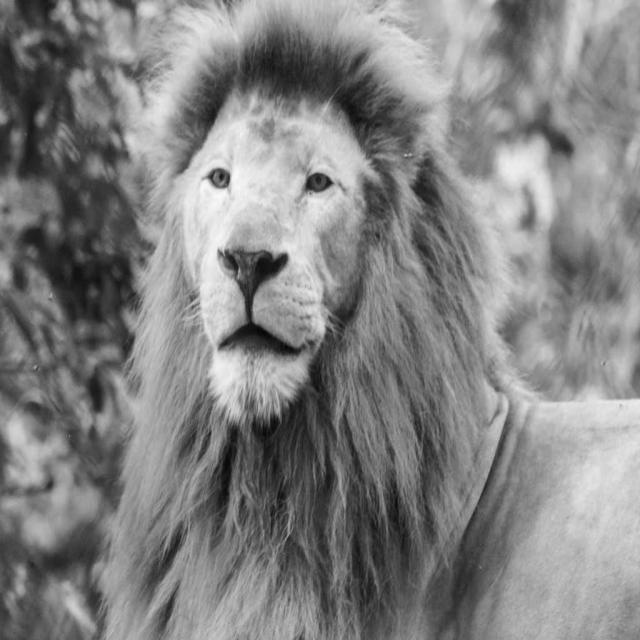Lion: (98, 48, 540, 596)
